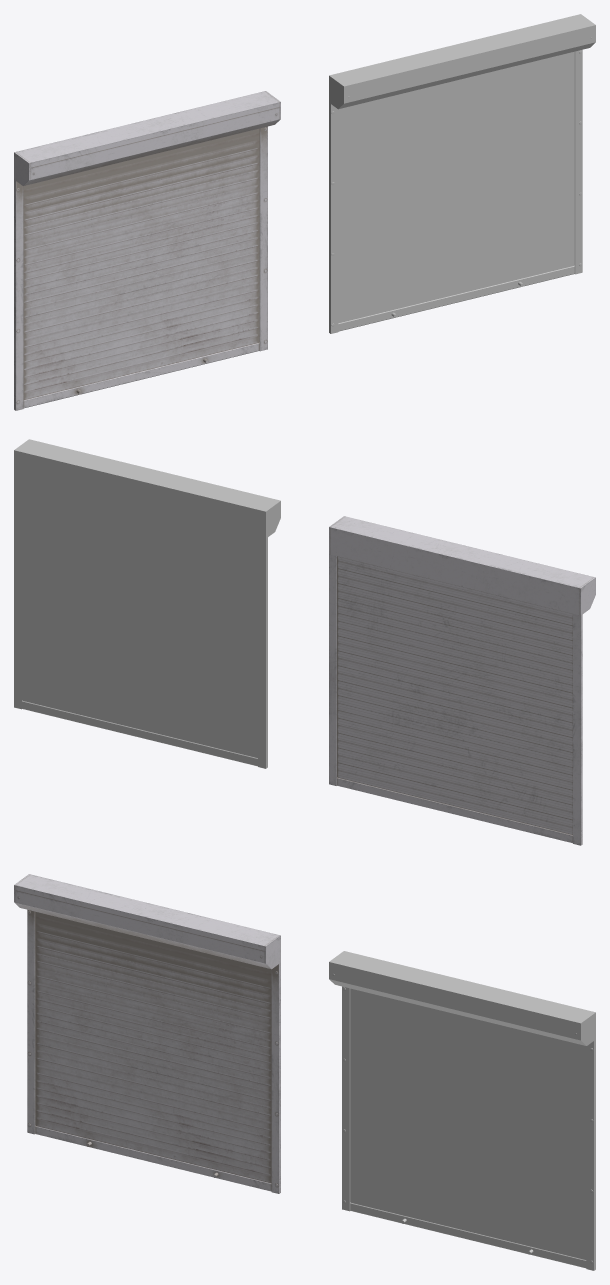
The model's file is rollershutter_window_02_2k.fbx.
The picture shows the model from 3 angles, top to bottom: view 1: azimuth 30°, elevation 25°; view 2: azimuth 150°, elevation 25°; view 3: azimuth 330°, elevation 25°; orthographic projection.
Parts seen in each view (by area): view 1: rollershutter_window_02_graffiti, rollershutter_window_02; view 2: rollershutter_window_02, rollershutter_window_02_graffiti; view 3: rollershutter_window_02, rollershutter_window_02_graffiti.
Part boxes in pixels (x1,y1,x2,y2): rollershutter_window_02_graffiti: [329, 14, 595, 333]; rollershutter_window_02: [14, 91, 280, 410]; rollershutter_window_02: [329, 516, 595, 845]; rollershutter_window_02_graffiti: [14, 439, 280, 768]; rollershutter_window_02: [14, 874, 280, 1193]; rollershutter_window_02_graffiti: [329, 951, 595, 1270].
Size of the model in its own units: 360 by 156 by 16.81.
